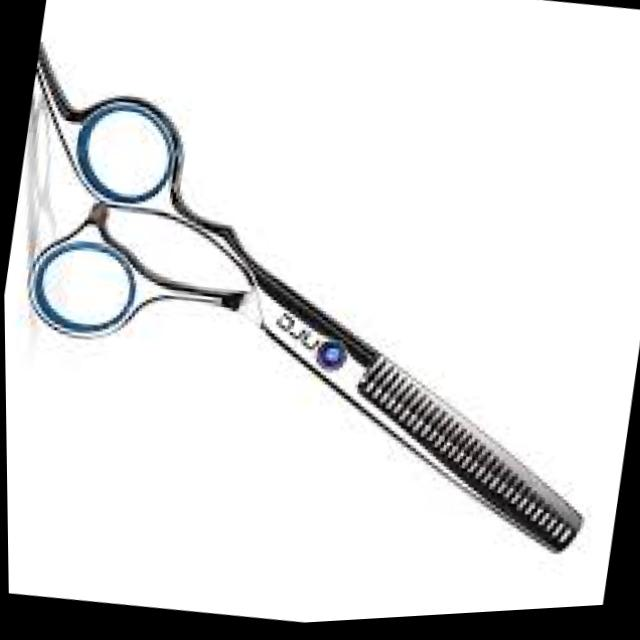scissor: (0, 4, 640, 592)
